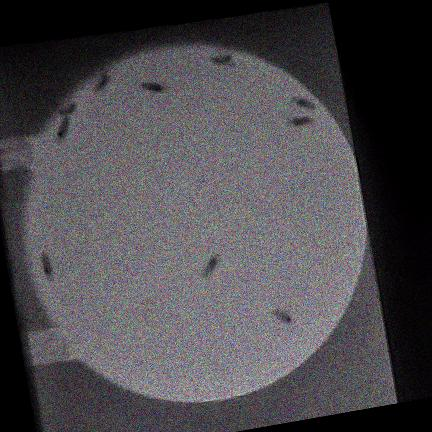fly: (56, 115, 71, 143), (202, 253, 220, 276), (93, 72, 111, 91), (273, 308, 293, 323), (210, 53, 234, 65), (288, 115, 314, 126), (41, 252, 52, 278), (142, 81, 168, 92), (294, 96, 315, 109), (60, 101, 76, 115)
